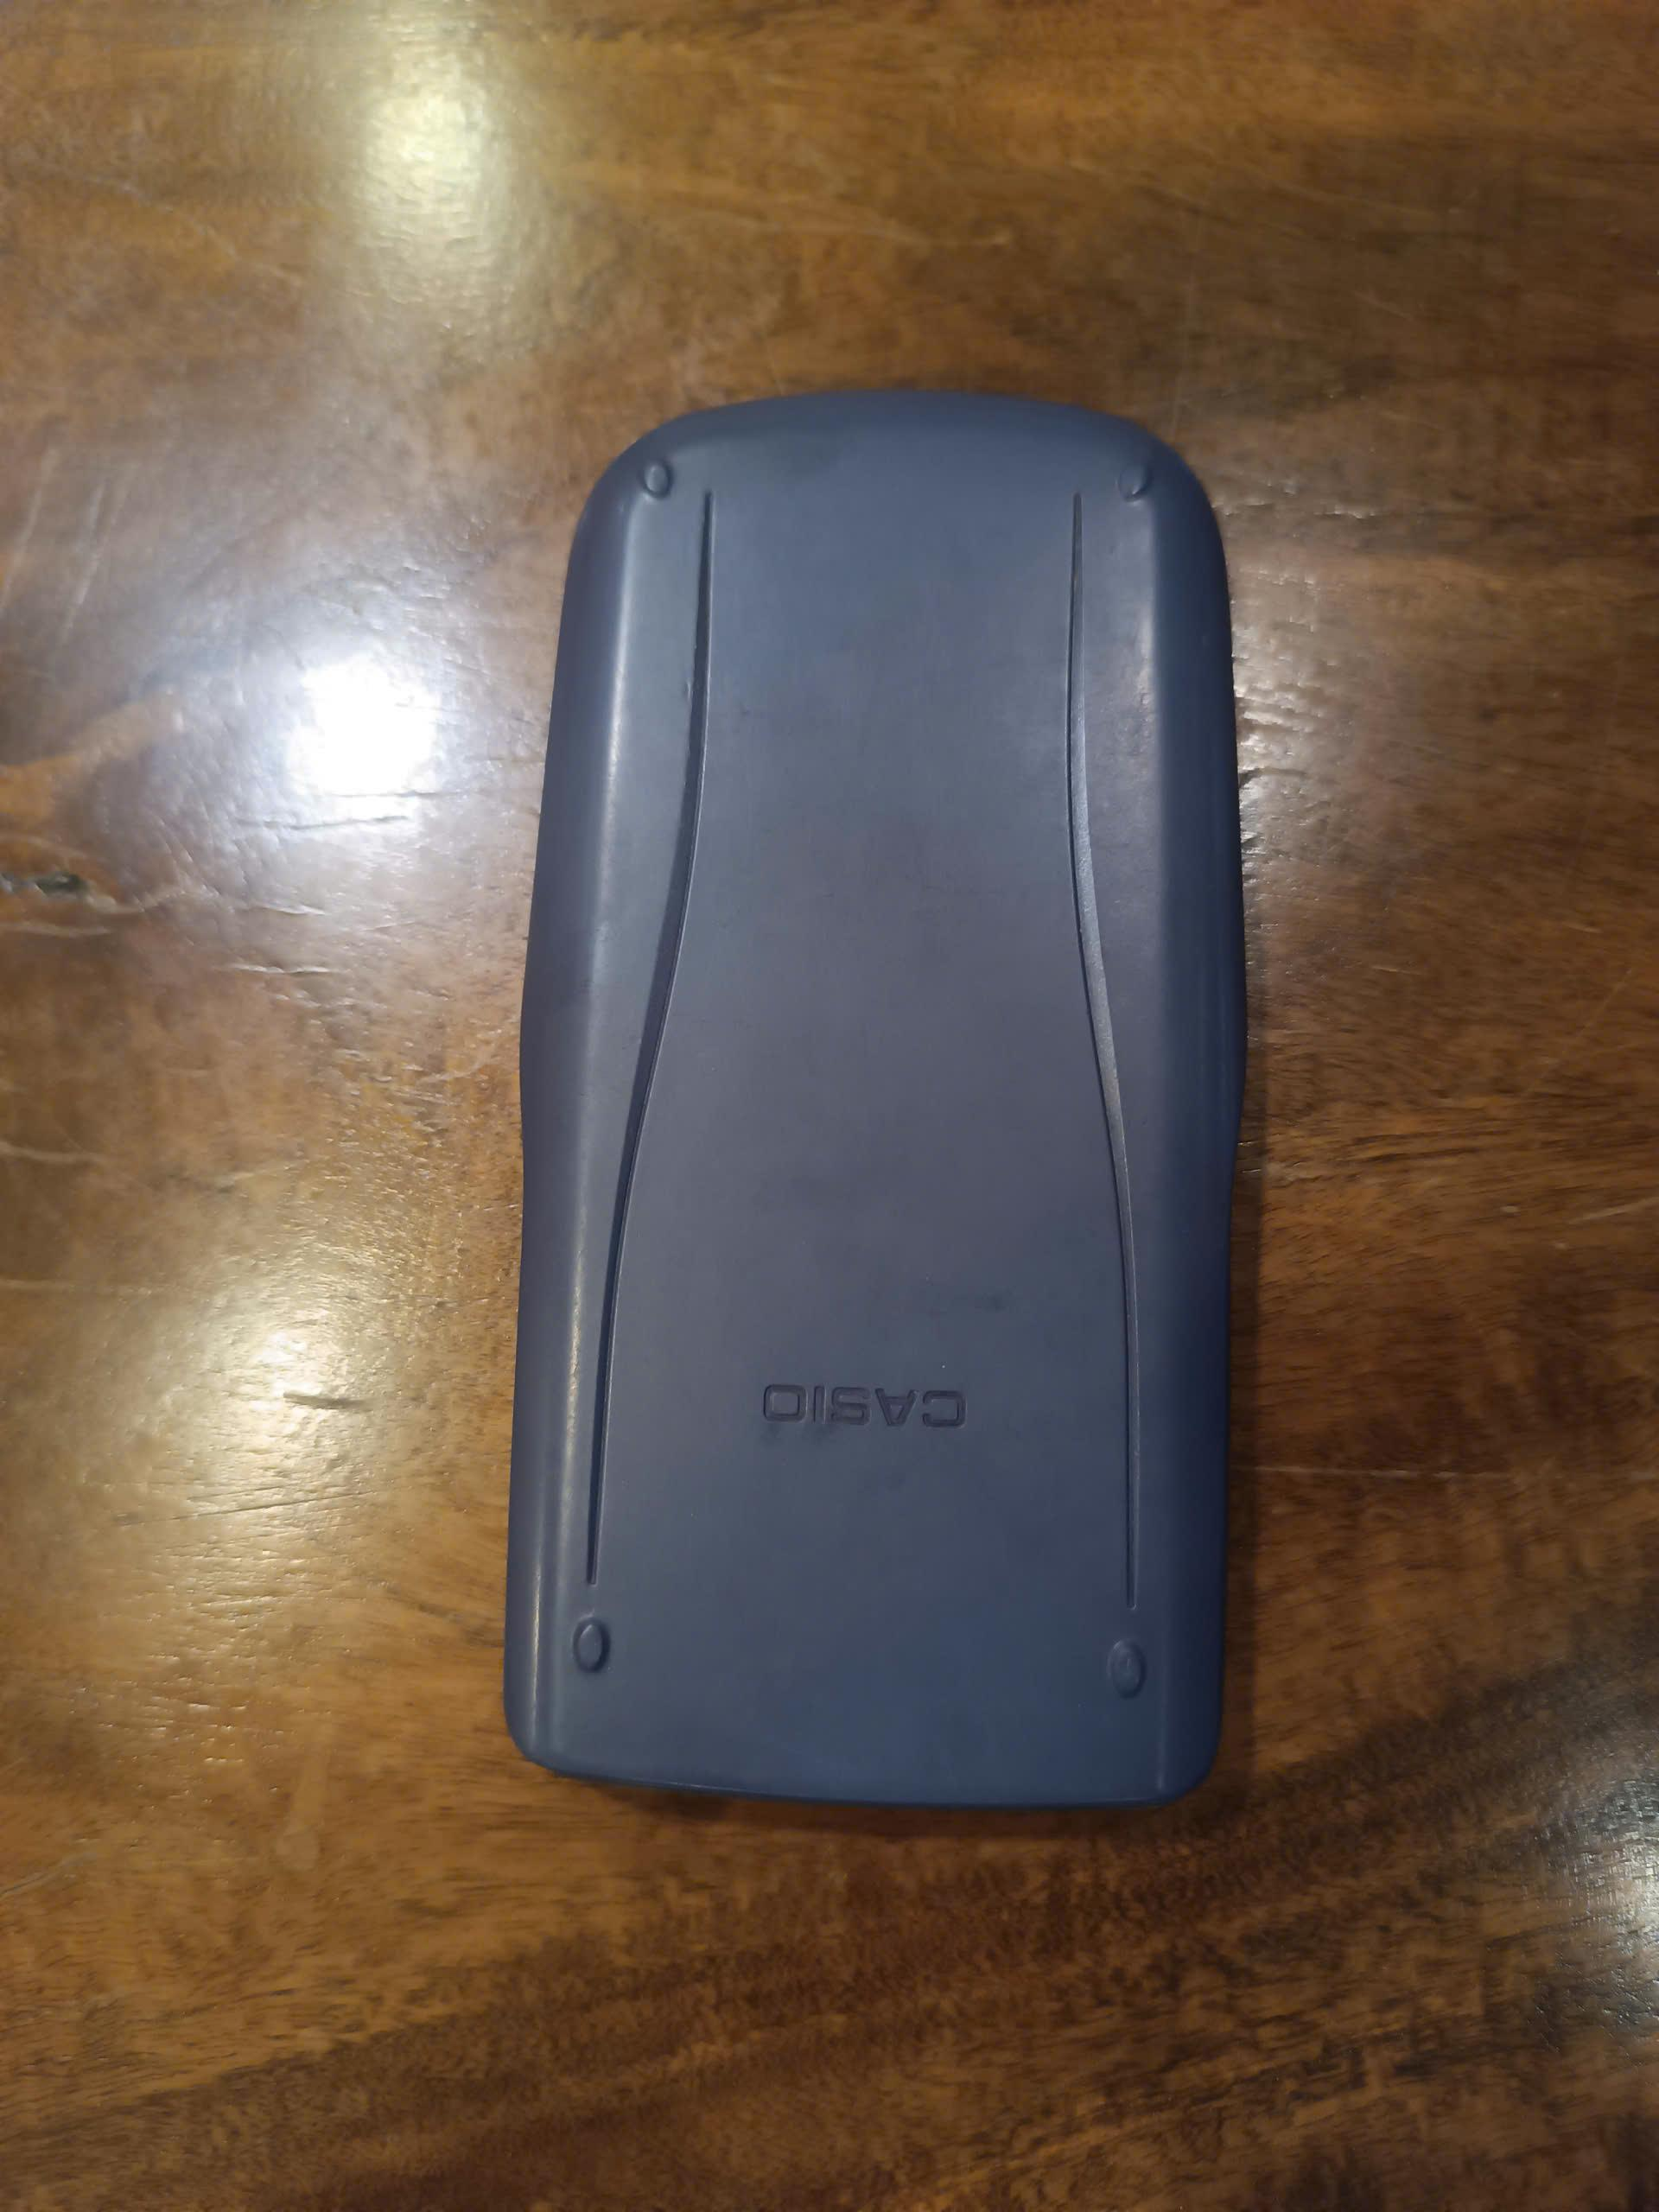Con lai: (505, 364, 1241, 1810)
